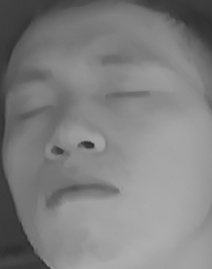blink: (103, 82, 153, 115), (12, 98, 55, 128)
mouth: (40, 169, 123, 213)
